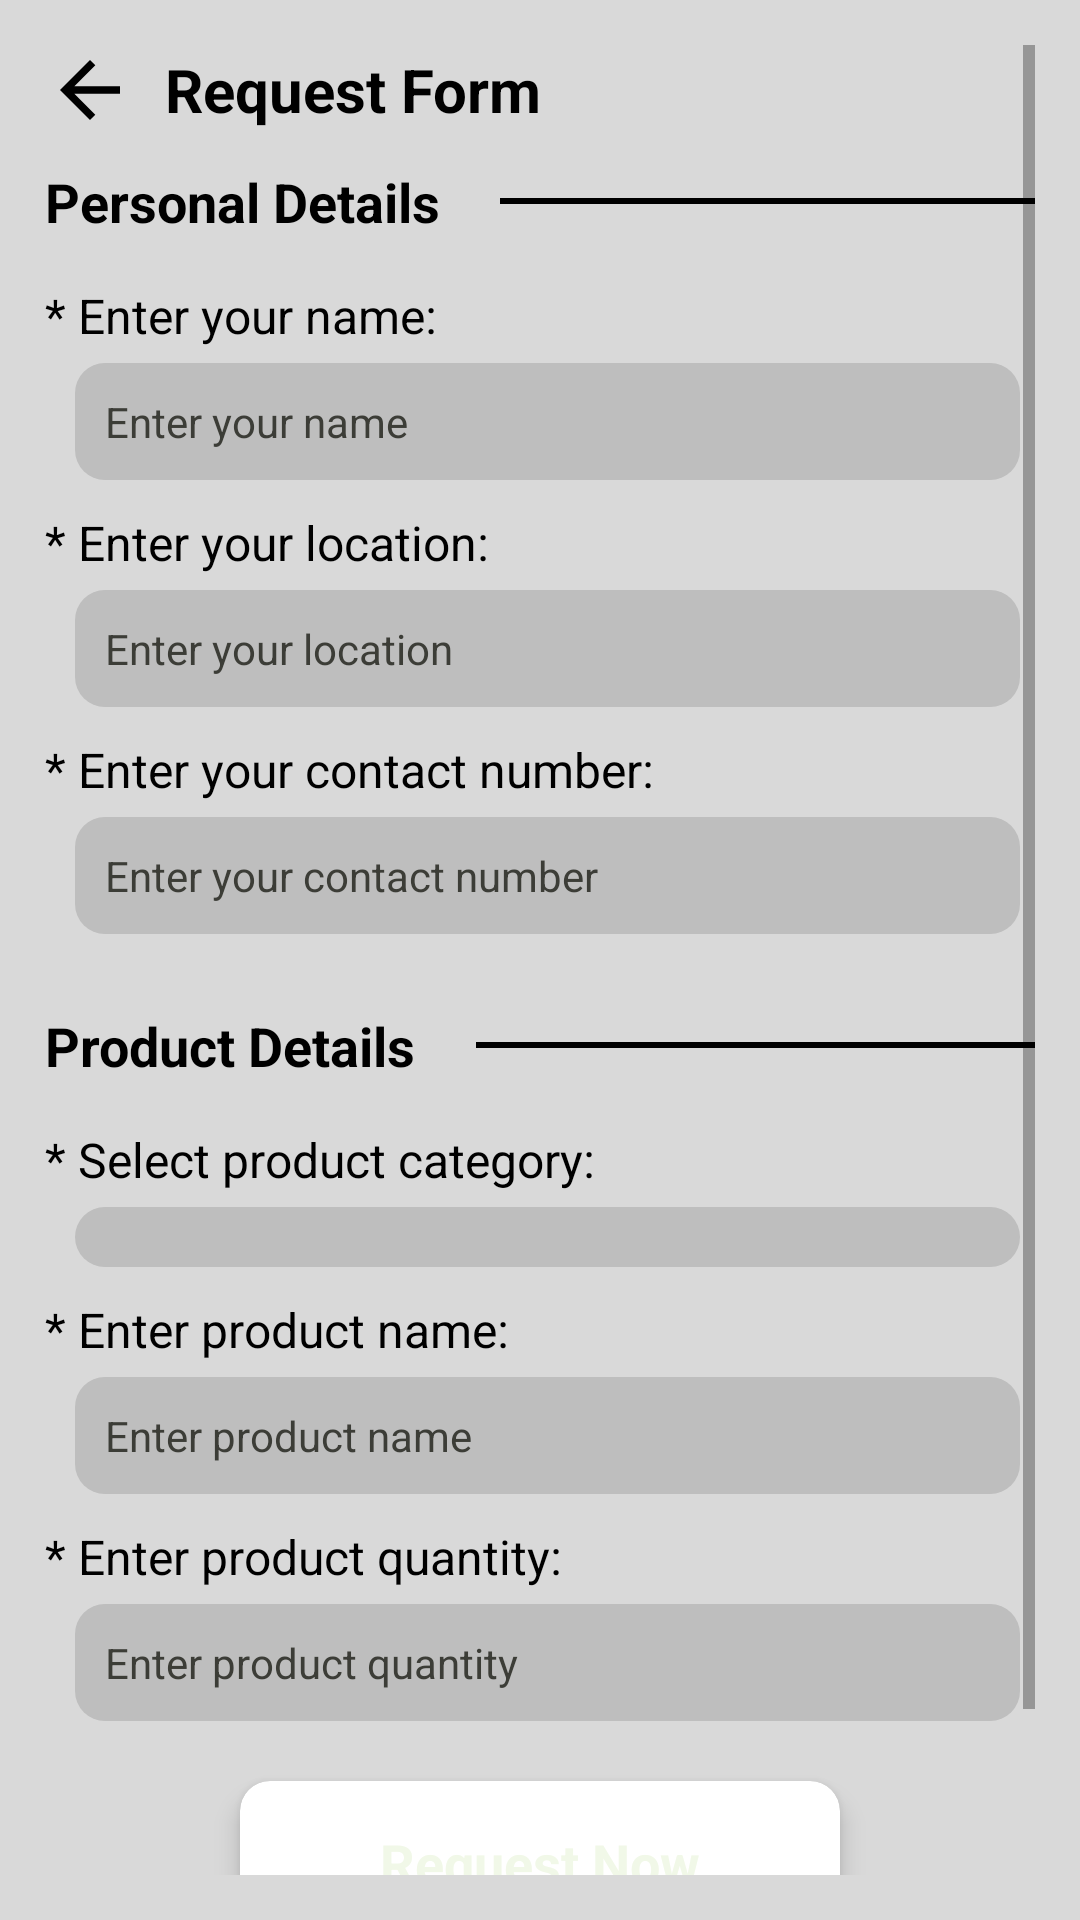

Point at icon controls on the screen. Image size 1080w x 1920h, points as [x,y].
Back arrow description: [90,90]
